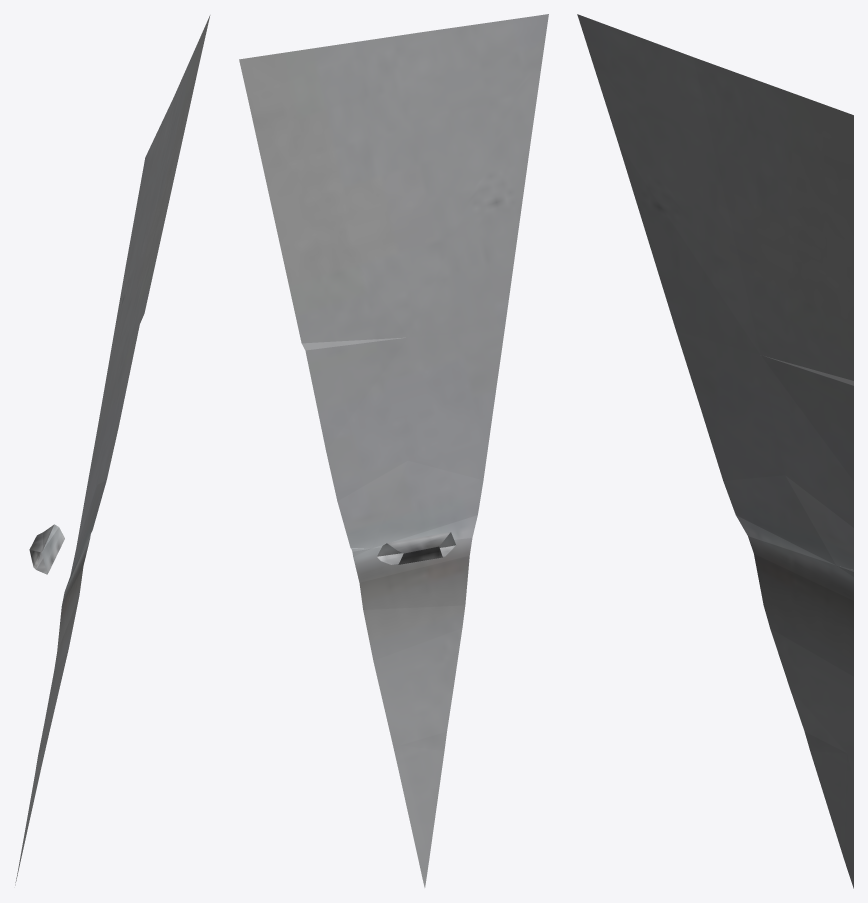
3 views of the same model, side by side, from view 1: azimuth 30°, elevation 25°; view 2: azimuth 150°, elevation 25°; view 3: azimuth 270°, elevation 25° (orthographic). The views are drawn at different scales.
Bounding box in the file's own units: 0.5246 × 2.11 × 0.6061.
Materials: 1 (1 with a texture image).
